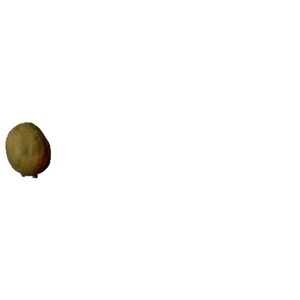mamão: (2, 117, 56, 181)
